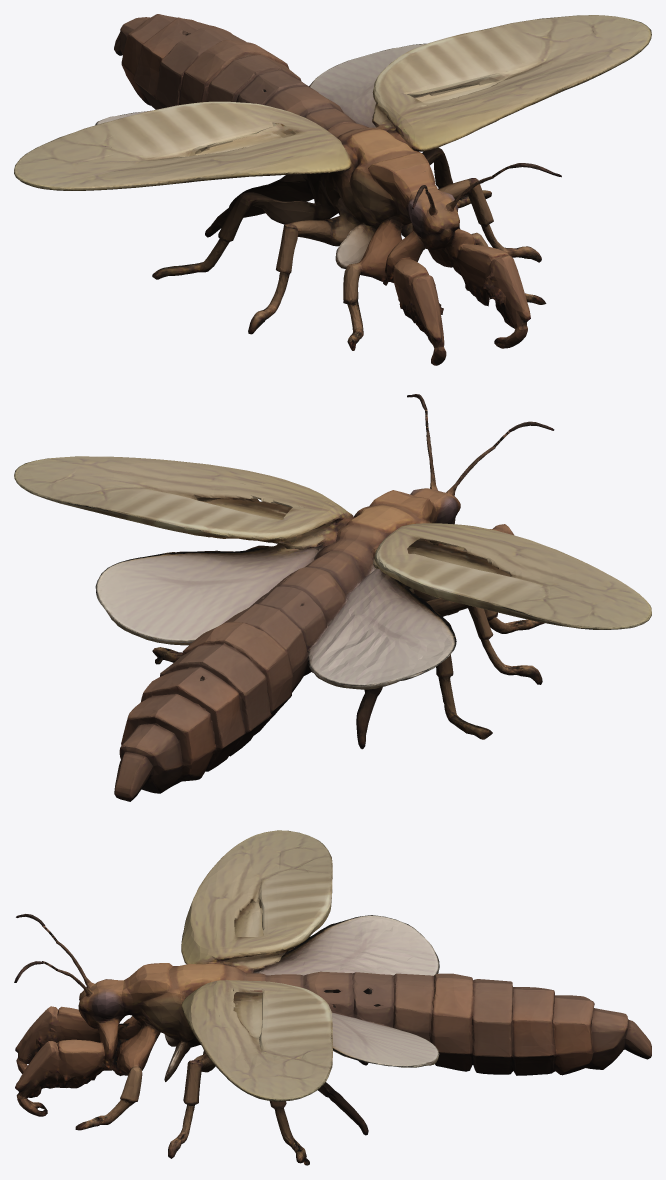
3 views of the same model, one above another, from view 1: azimuth 30°, elevation 25°; view 2: azimuth 150°, elevation 25°; view 3: azimuth 270°, elevation 25° (orthographic). The views are drawn at different scales.
Visible parts, largest first — view 1: world; view 2: world; view 3: world.
Part boxes in pixels (x1,y1,x2,y2): world: [14, 14, 651, 365]; world: [14, 394, 651, 801]; world: [14, 830, 651, 1165].
Bounding box in the file's own units: 0.9994 × 0.2826 × 0.9981.
Materials: 1 (1 with a texture image).
